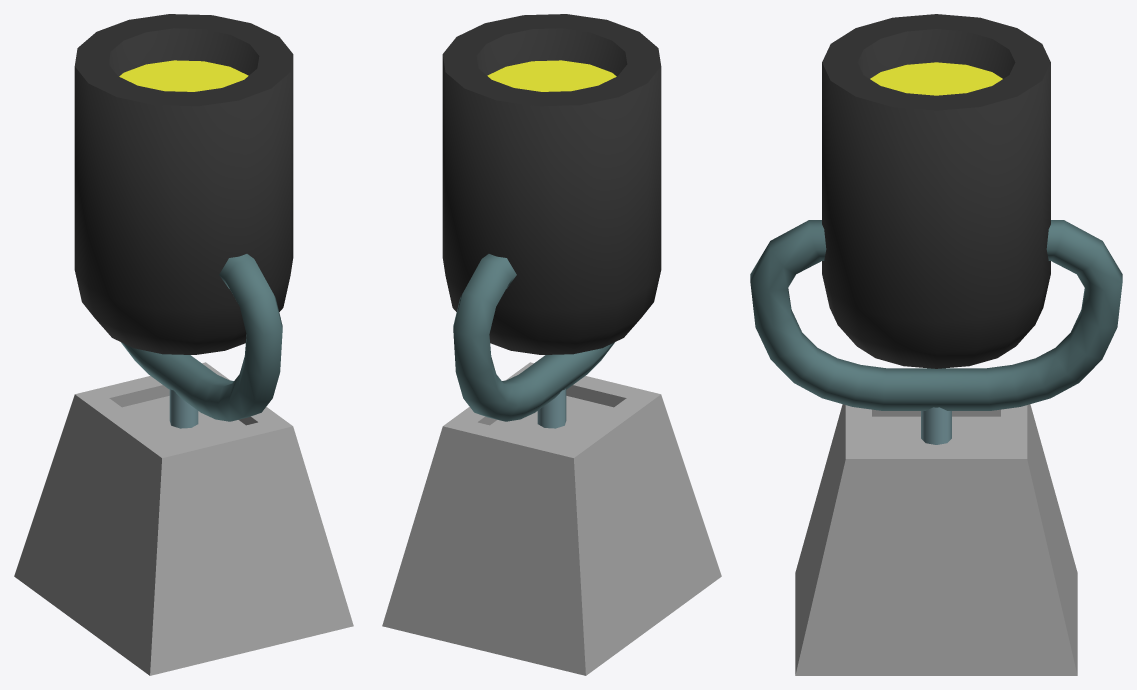
File: SpotLight.fbx
3 renders of one model, left to right at view 1: azimuth 30°, elevation 25°; view 2: azimuth 150°, elevation 25°; view 3: azimuth 270°, elevation 25°, orthographic. The views are drawn at different scales.
Visible parts, largest first — view 1: SpotLight_Base, SpotLight, SpotLightHandle; view 2: SpotLight_Base, SpotLight, SpotLightHandle; view 3: SpotLight, SpotLight_Base, SpotLightHandle.
Part boxes in pixels (<box>): SpotLight_Base: <box>14,362,353,675</box>; SpotLight: <box>74,14,293,354</box>; SpotLightHandle: <box>121,254,282,428</box>; SpotLight_Base: <box>382,362,721,675</box>; SpotLight: <box>442,14,661,354</box>; SpotLightHandle: <box>453,254,614,428</box>; SpotLight: <box>822,14,1050,368</box>; SpotLight_Base: <box>795,404,1077,675</box>; SpotLightHandle: <box>750,220,1122,444</box>.
Size of the model in its own units: 5.52 by 8.41 by 14.01.
